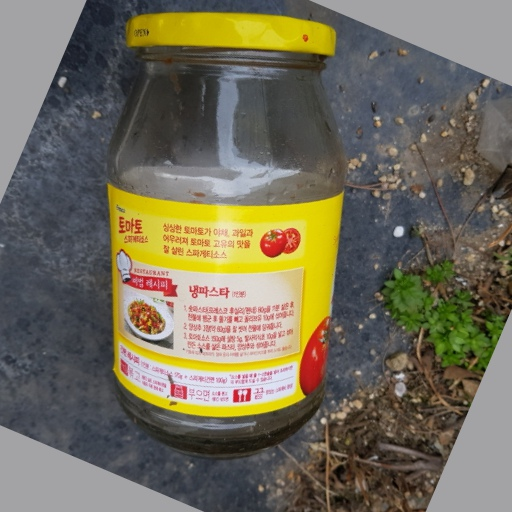Glass_5: (104, 13, 351, 455)
